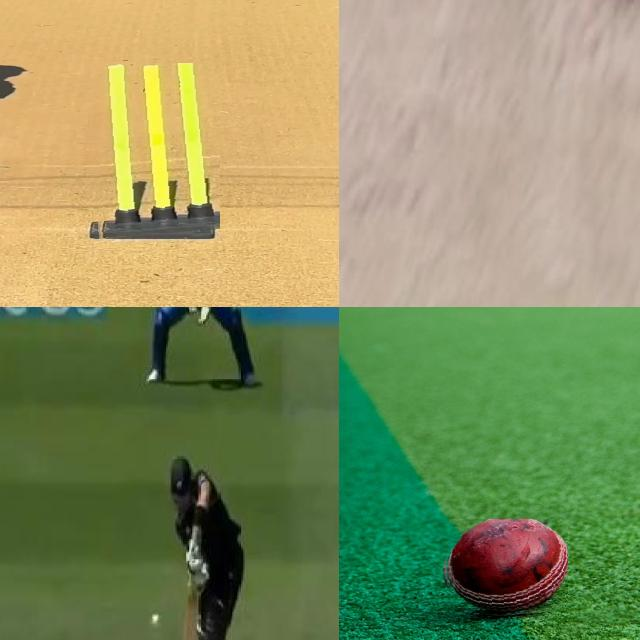Cricket ball: (442, 519, 568, 620), (150, 612, 162, 630)
Stumps: (86, 63, 220, 239)
